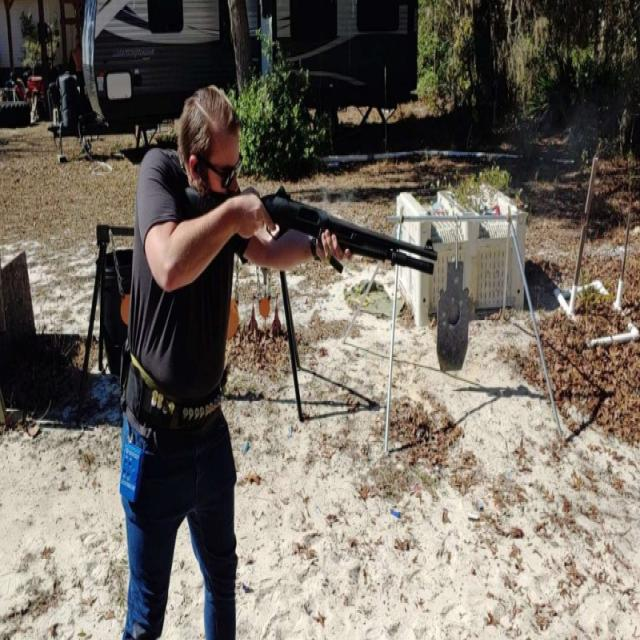ShotGun: (202, 188, 437, 274)
